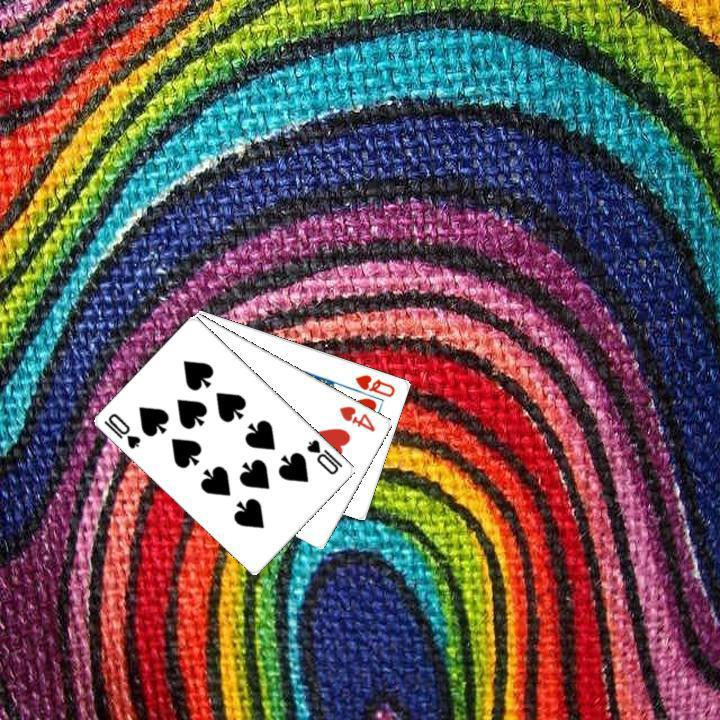10: (302, 435, 345, 477), (100, 409, 143, 451)
4: (335, 401, 378, 434)
Q: (351, 370, 397, 399)
